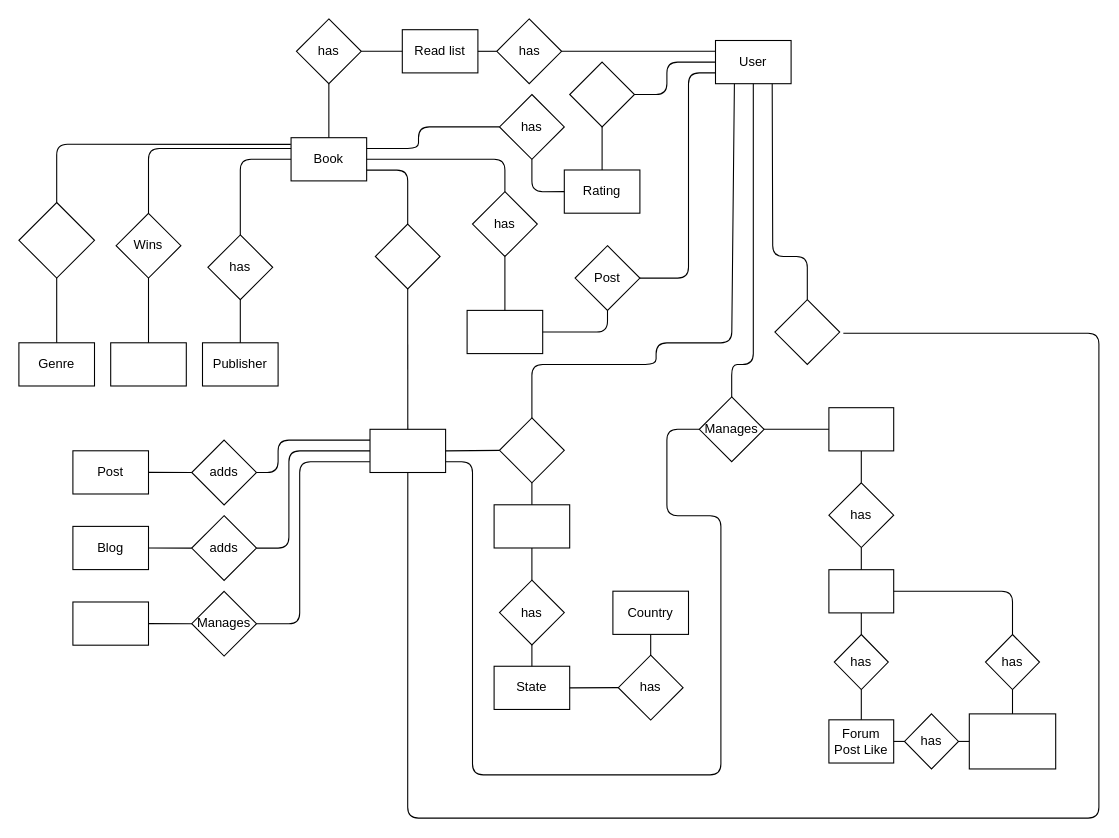
The diagram is 1119 pixels wide and 838 high, and some of its shapes have lost their labels. Each missing label, with the centre of its shape:
"Author" goes at point (407, 450).
"Award" goes at point (148, 364).
"Belongs To" goes at point (56, 239).
"City" goes at point (531, 526).
"Folows" goes at point (807, 331).
"Forum" goes at point (861, 429).
"Forum Post" goes at point (861, 591).
"Forum Post Comment" goes at point (1012, 741).
"Gives" goes at point (601, 94).
"Live Session" goes at point (110, 623).
"Lives in" goes at point (531, 450).
"Review" goes at point (504, 331).
"Written By" goes at point (407, 256).
